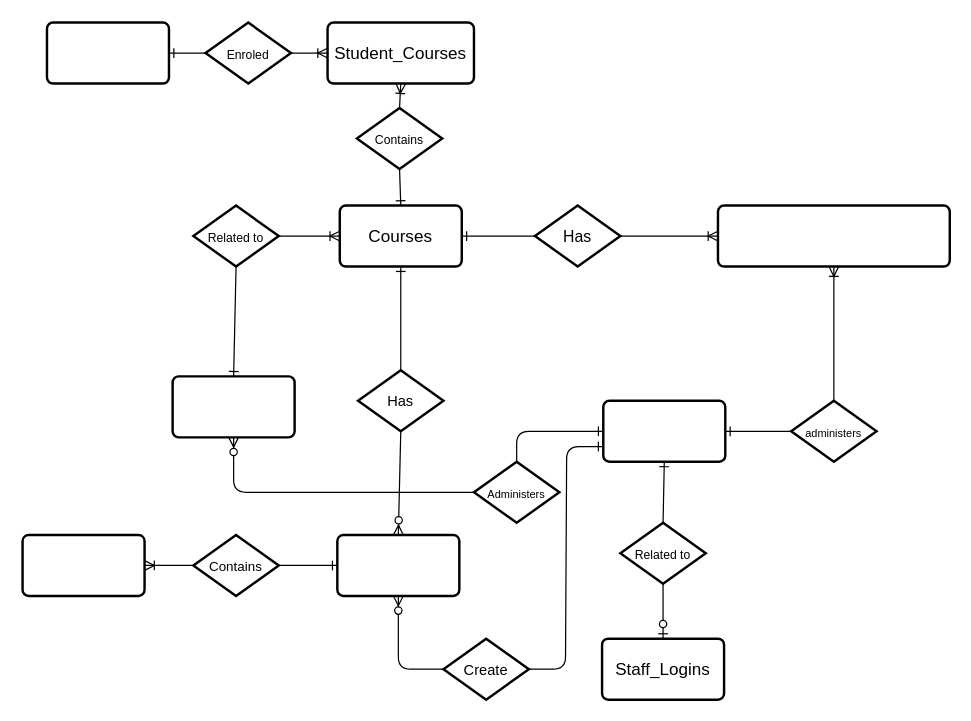
The diagram is 971 pixels wide and 721 high, and some of its shapes have lost their labels. Each missing label, with the box of its shape:
CMR_Data: (21, 533, 145, 597)
CMRs: (336, 533, 460, 597)
Course_Administrations: (716, 204, 950, 267)
Faculties: (171, 375, 295, 438)
Staffs: (601, 399, 726, 462)
Students: (45, 21, 170, 84)
